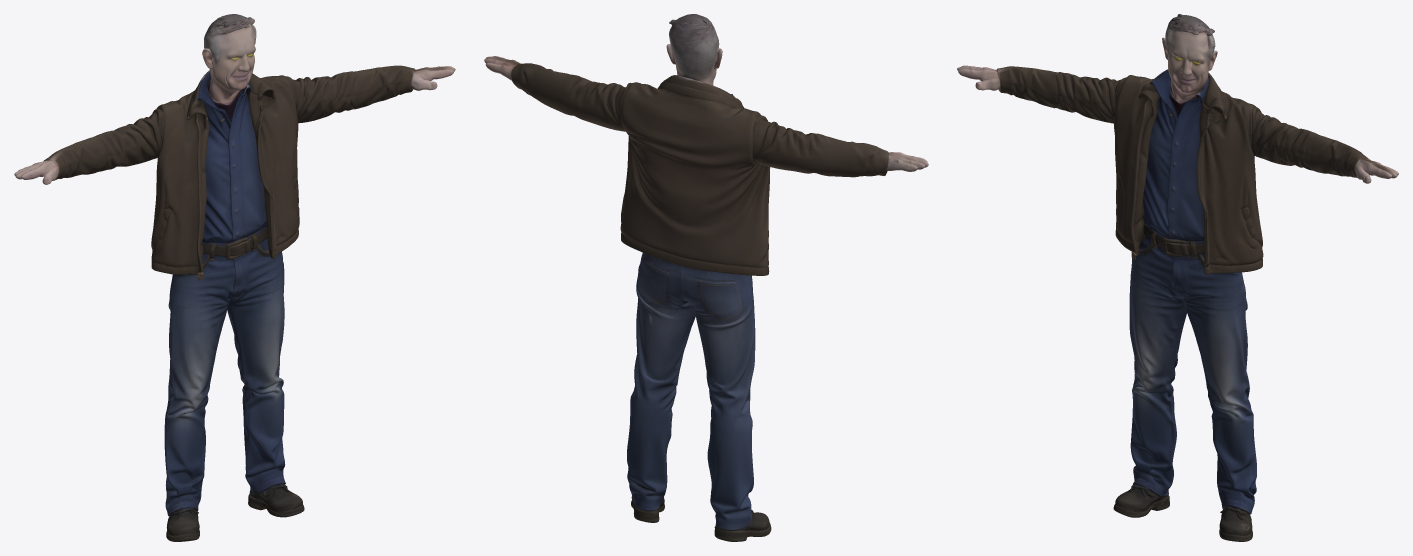
The model's file is demon.glb.
3 renders of one model, left to right at view 1: azimuth 30°, elevation 25°; view 2: azimuth 150°, elevation 25°; view 3: azimuth 330°, elevation 25°, orthographic.
Parts seen in each view (by area): view 1: material.001; view 2: material.001; view 3: material.001.
Boxes of the visible parts, <box> form: material.001: <box>14,14,455,541</box>; material.001: <box>484,14,928,541</box>; material.001: <box>957,14,1398,541</box>.
Size of the model in its own units: 1.81 by 1.99 by 0.2136.
1 material, 1 textured.
